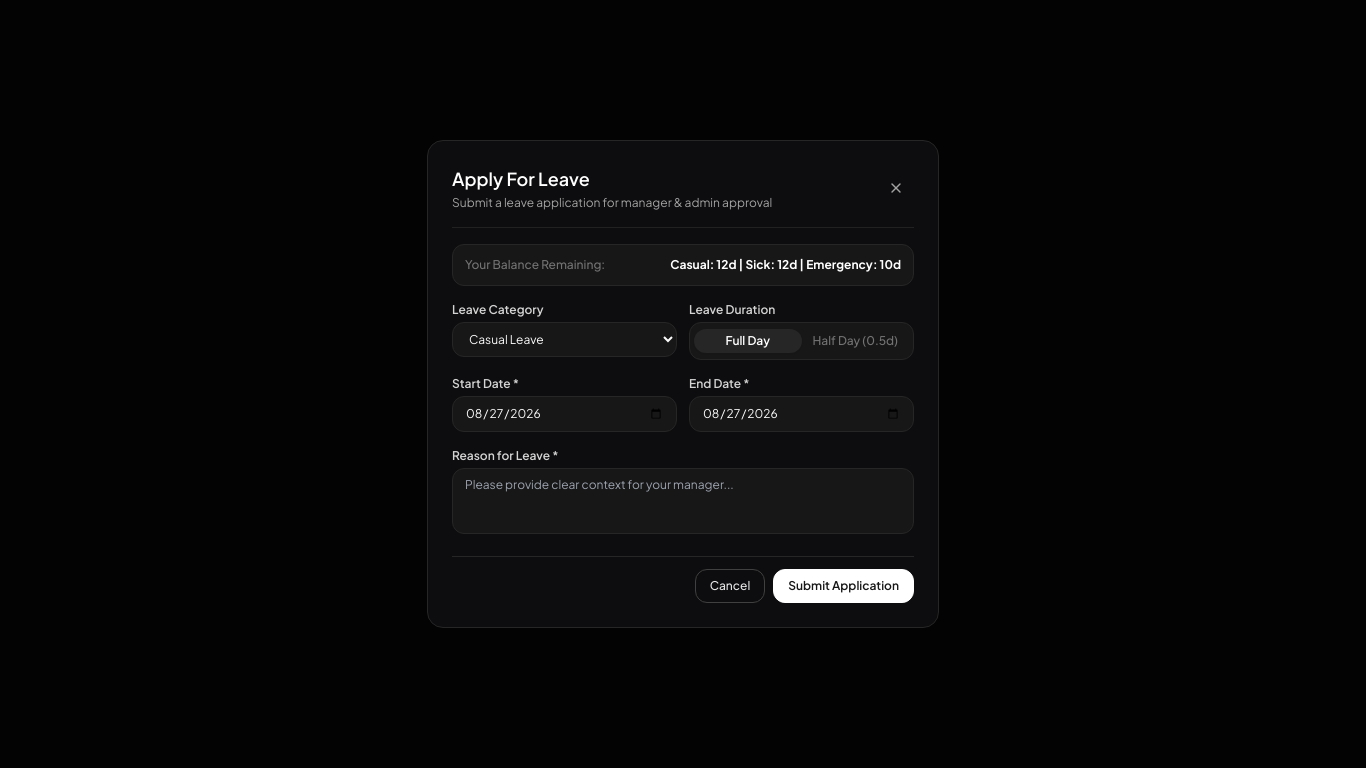
Test: Leave Management Module Unit Tests › renders half day options in ApplyLeaveModal when Half Day is selected
Click the button "Half Day (0.5d)".
click(855, 341)  # box [802, 329, 909, 353]
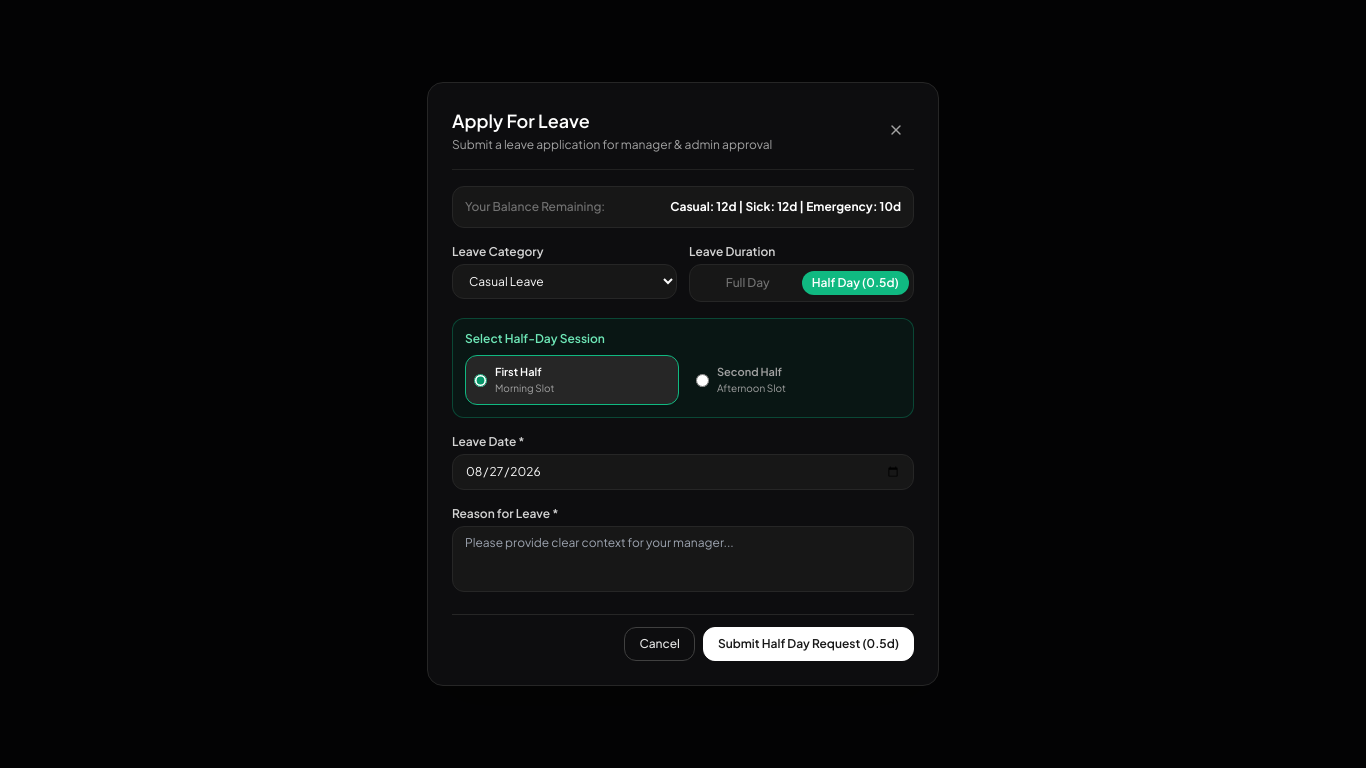
Now the text "Select Half-Day Session" is shown, box [465, 331, 605, 346]
Now the text "First Half" is shown, box [495, 365, 542, 378]
Now the text "Second Half" is shown, box [717, 364, 786, 380]
